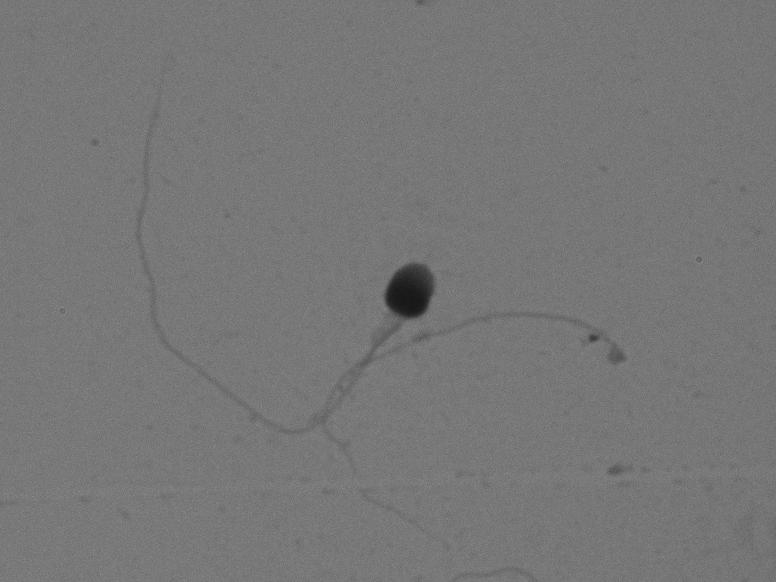Abnormal: (89, 43, 454, 478), (287, 285, 672, 559)
